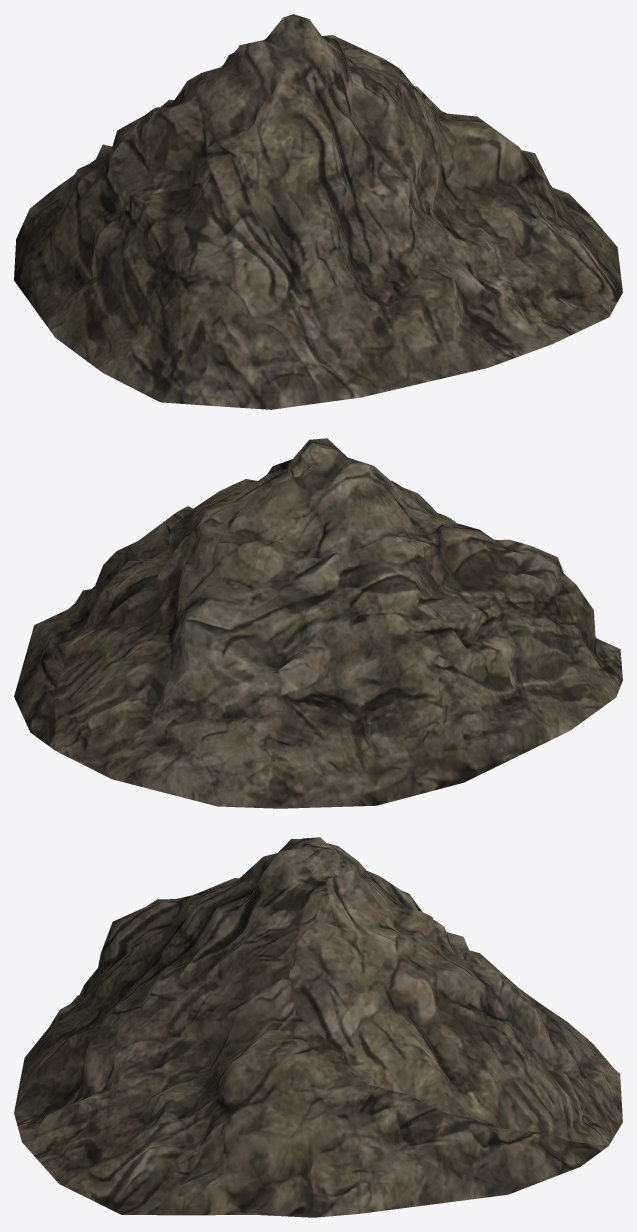
Rendered from MEP_C_Stalagmite_06_N.fbx.
3 views of the same model, one above another, from view 1: azimuth 30°, elevation 25°; view 2: azimuth 150°, elevation 25°; view 3: azimuth 270°, elevation 25° (orthographic). The views are drawn at different scales.
Visible parts, largest first — view 1: MEP_C_Stalagmite_06; view 2: MEP_C_Stalagmite_06; view 3: MEP_C_Stalagmite_06.
Boxes of the visible parts, box(x1,y1,x2,y2) form: MEP_C_Stalagmite_06: box(14, 14, 622, 409); MEP_C_Stalagmite_06: box(14, 438, 622, 808); MEP_C_Stalagmite_06: box(14, 837, 622, 1217).
Size of what is drawn, in the model's own units: 281 by 133 by 282.
Materials: 1 (1 with a texture image).
